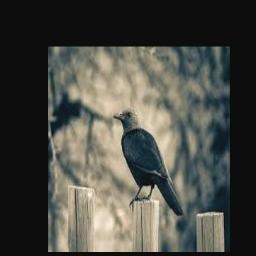Crow: (113, 108, 185, 216)
